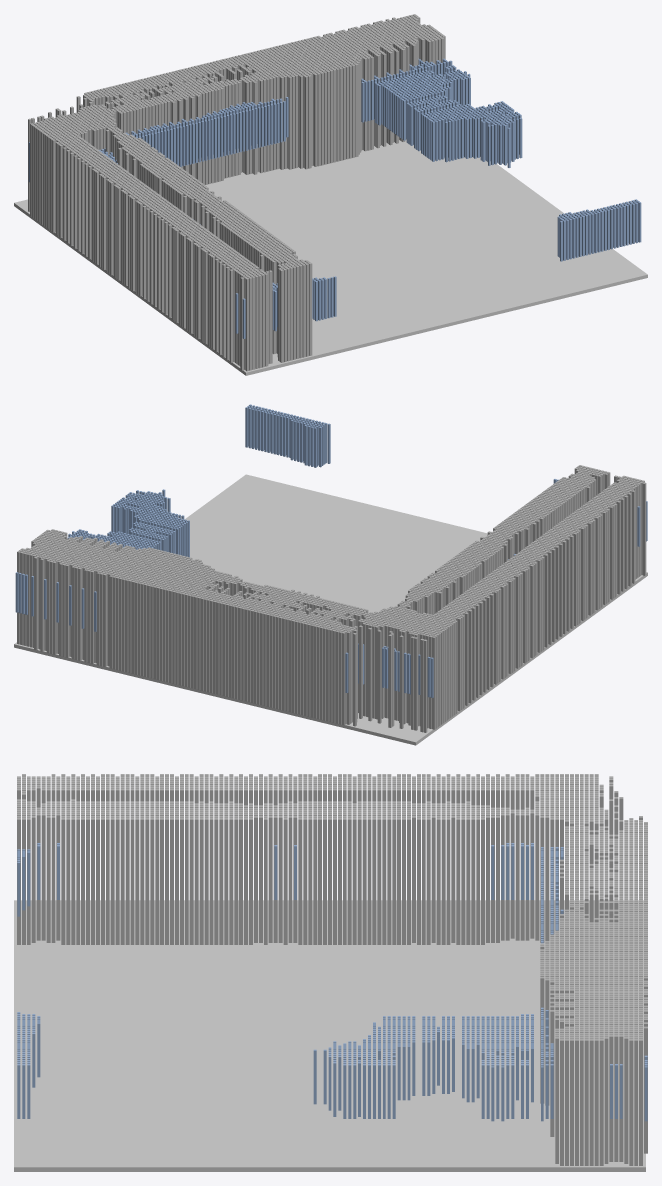
The picture shows the model from 3 angles, top to bottom: view 1: azimuth 30°, elevation 25°; view 2: azimuth 150°, elevation 25°; view 3: azimuth 270°, elevation 25°; orthographic projection. The views are drawn at different scales.
Visible parts, largest first — view 1: world; view 2: world; view 3: world.
Part boxes in pixels (x1,y1,x2,y2): world: [14, 14, 647, 375]; world: [14, 404, 647, 745]; world: [14, 774, 647, 1171].
Size of the model in its own units: 12.84 by 2.9 by 12.84.
